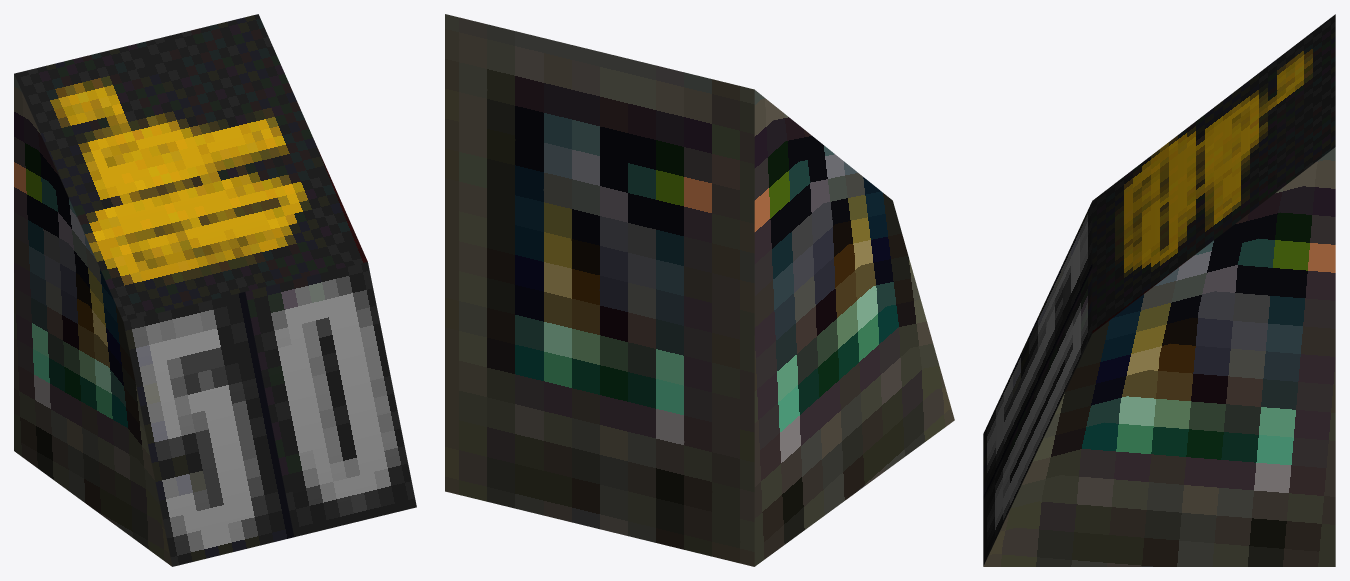
The picture shows the model from 3 angles, left to right: view 1: azimuth 30°, elevation 25°; view 2: azimuth 150°, elevation 25°; view 3: azimuth 270°, elevation 25°; orthographic projection. The views are drawn at different scales.
Parts seen in each view (by area): view 1: Ovmp_obj_034; view 2: Ovmp_obj_034; view 3: Ovmp_obj_034.
Part boxes in pixels (box(x1,y1,x2,y2)): Ovmp_obj_034: box(14, 14, 416, 566); Ovmp_obj_034: box(445, 14, 954, 566); Ovmp_obj_034: box(983, 14, 1335, 566).
Size of the model in its own units: 0.6582 by 0.9707 by 0.7383.
Materials: 2 (2 with a texture image).
